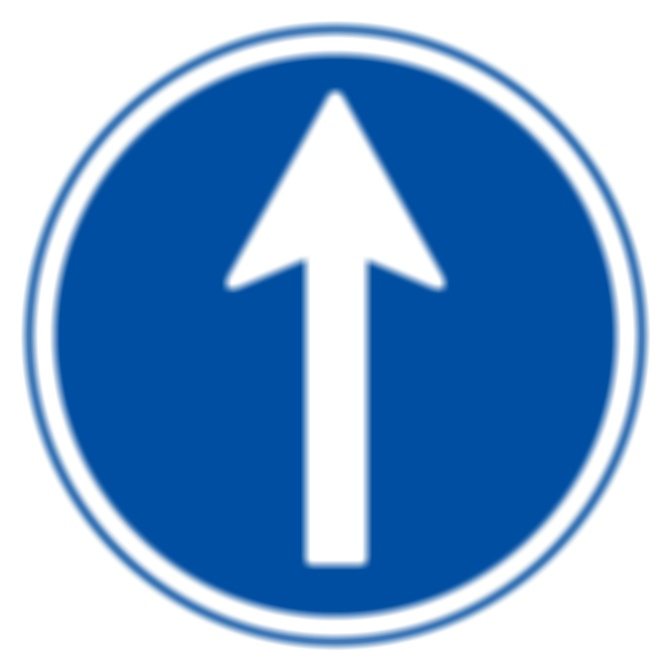Direction_sign: (15, 13, 653, 653)
